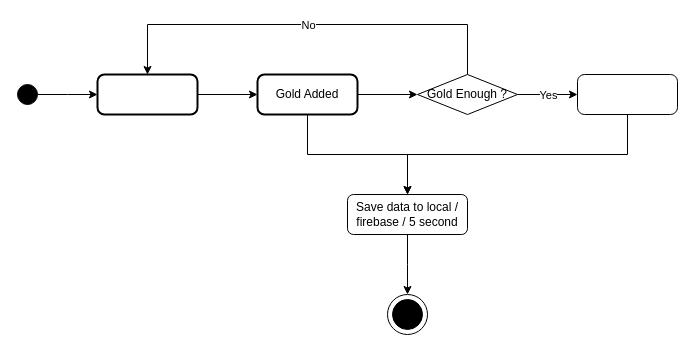
The diagram is 695 pixels wide and 352 high, and some of its shapes have lost their labels. Each missing label, with the centre of its shape:
Tap Coin: (x=147, y=94)
Upgrade Resource & Collect / second: (x=627, y=94)
